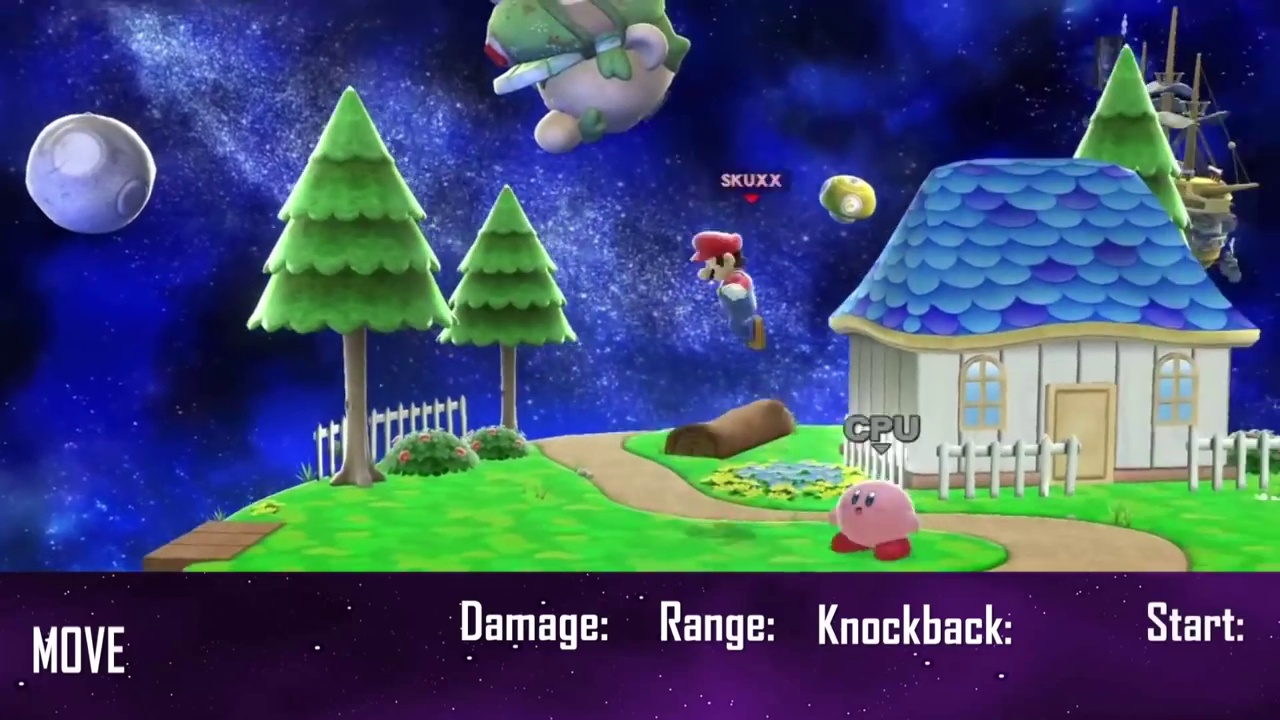Mario: (690, 231, 766, 351)
